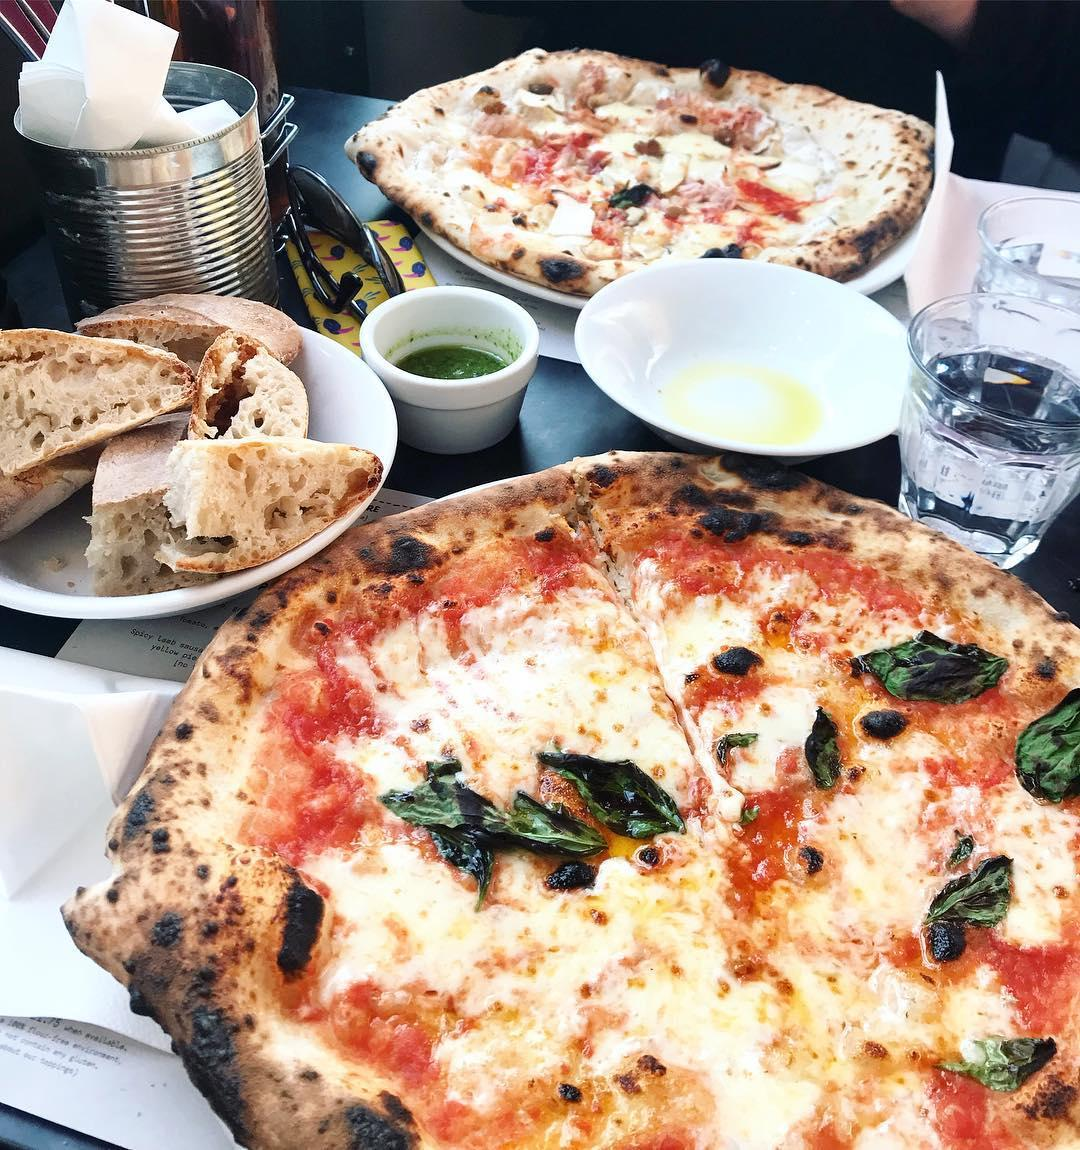Basil: (386, 753, 673, 887), (840, 620, 1001, 722), (918, 854, 1021, 970), (1008, 693, 1080, 813), (928, 1029, 1071, 1087), (791, 705, 856, 796), (856, 893, 861, 893)
Cheese: (424, 889, 901, 1135), (453, 624, 682, 746), (836, 774, 920, 894)
Pizza: (95, 448, 1080, 1150), (350, 38, 943, 301)
